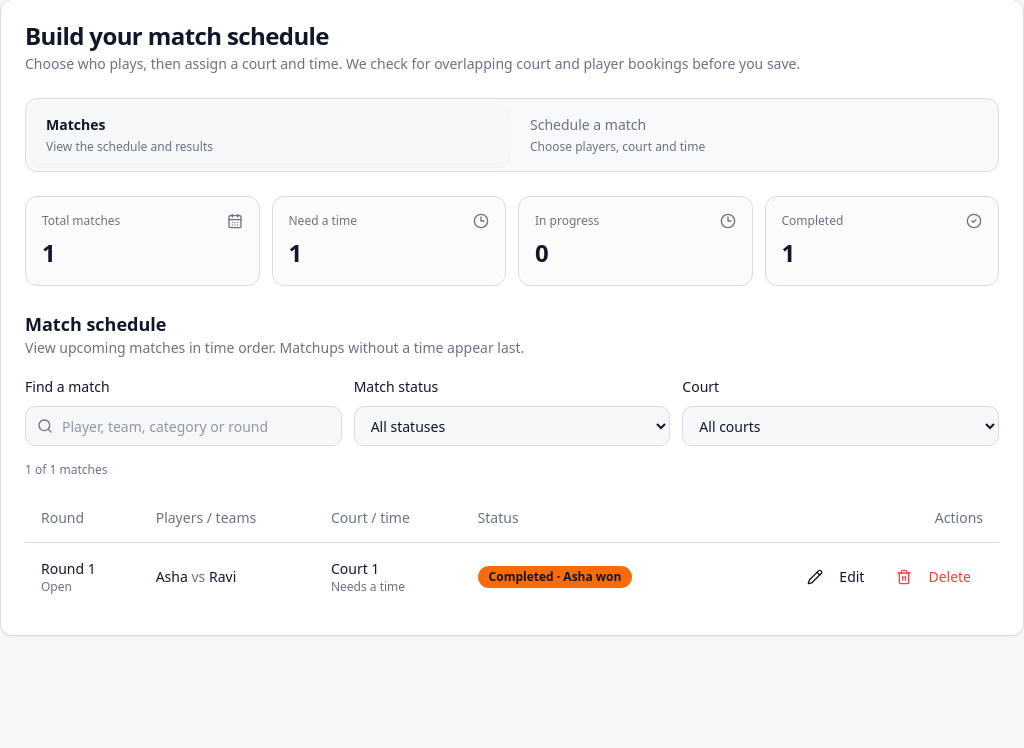
Scenario: match scheduling usability › blocks saving stale selections after changing to a later round
The image size is (1024, 748).
Click the tab "Schedule a match Choose players, court and time" at x=588, y=124, box [514,103,994,167]
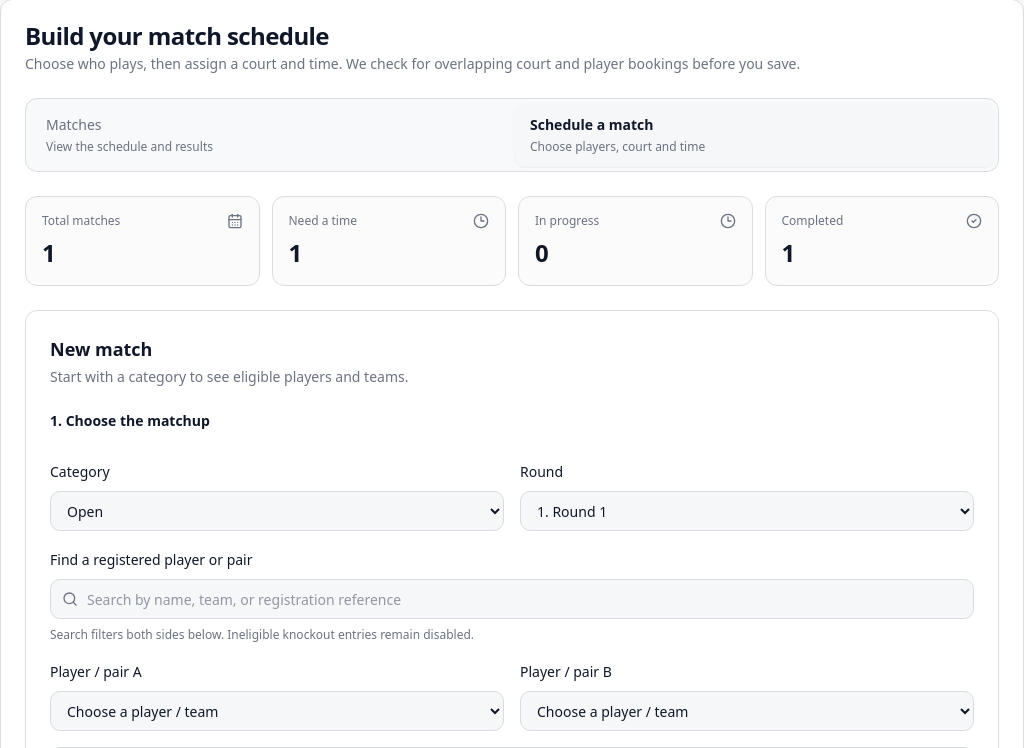
Select "1. Round 1" in the dropdown labelled "Round" at x=747, y=511, box [520,491,974,531]
Select "Asha — Completed" in the dropdown labelled "Player / pair A" at x=277, y=711, box [50,691,504,731]
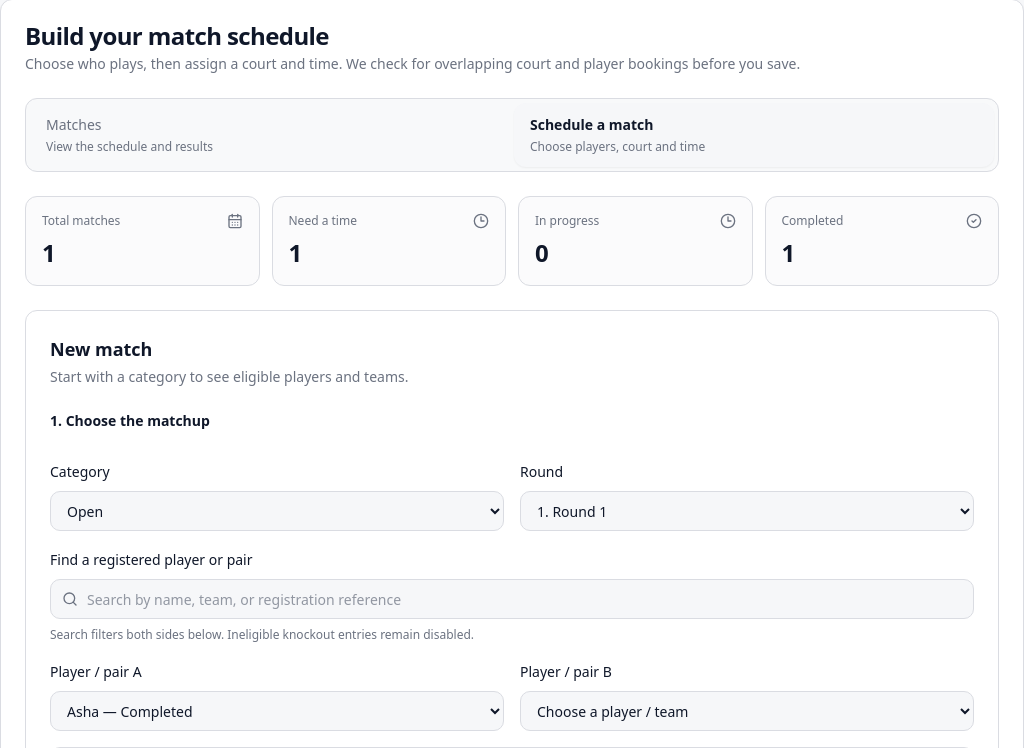
Select "Ravi — Completed" in the dropdown labelled "Player / pair B" at x=747, y=711, box [520,691,974,731]
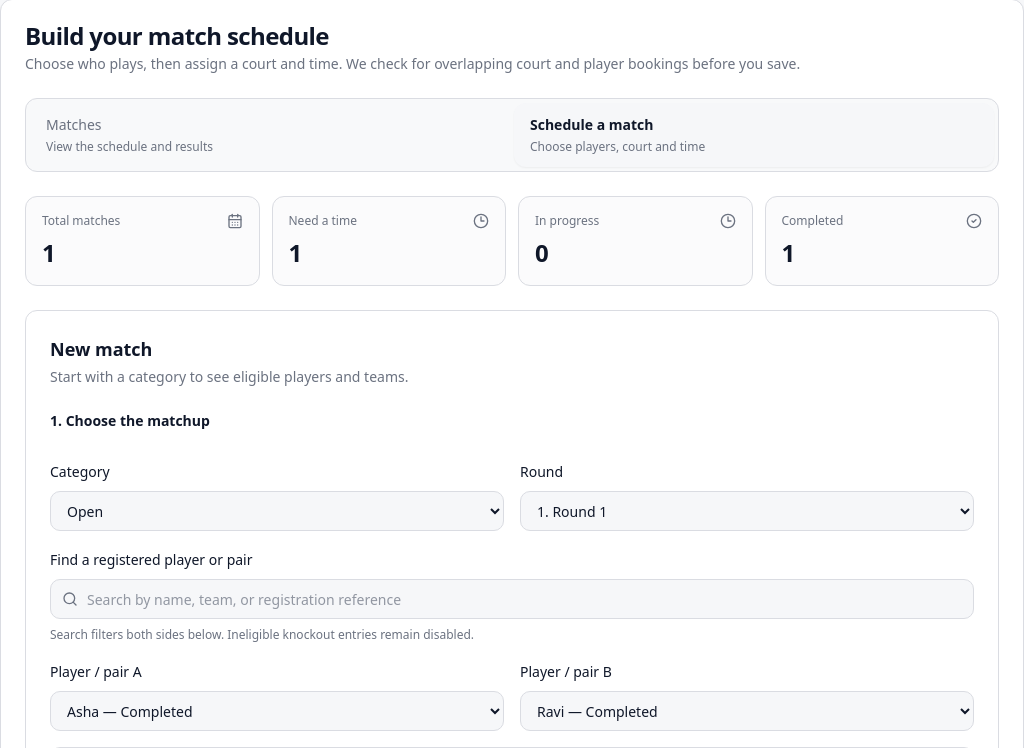
Select "3. Round 3" in the dropdown labelled "Round" at x=747, y=511, box [520,491,974,531]
(page scrolled)
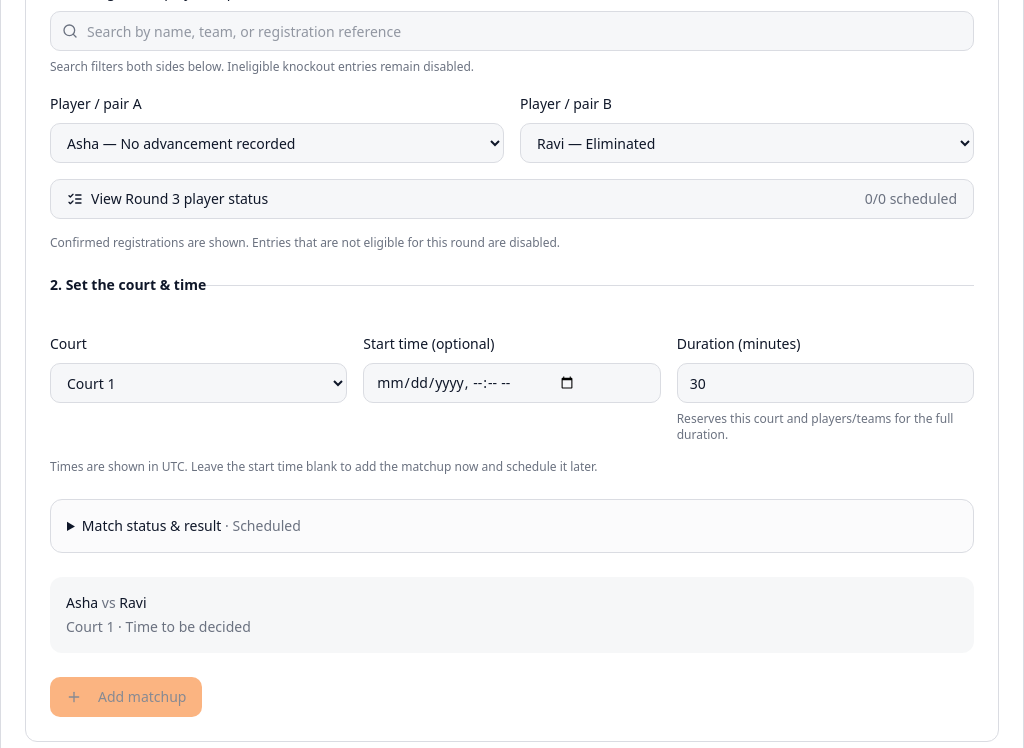
Now the button "Add matchup" is disabled, box [50,677,202,717]
